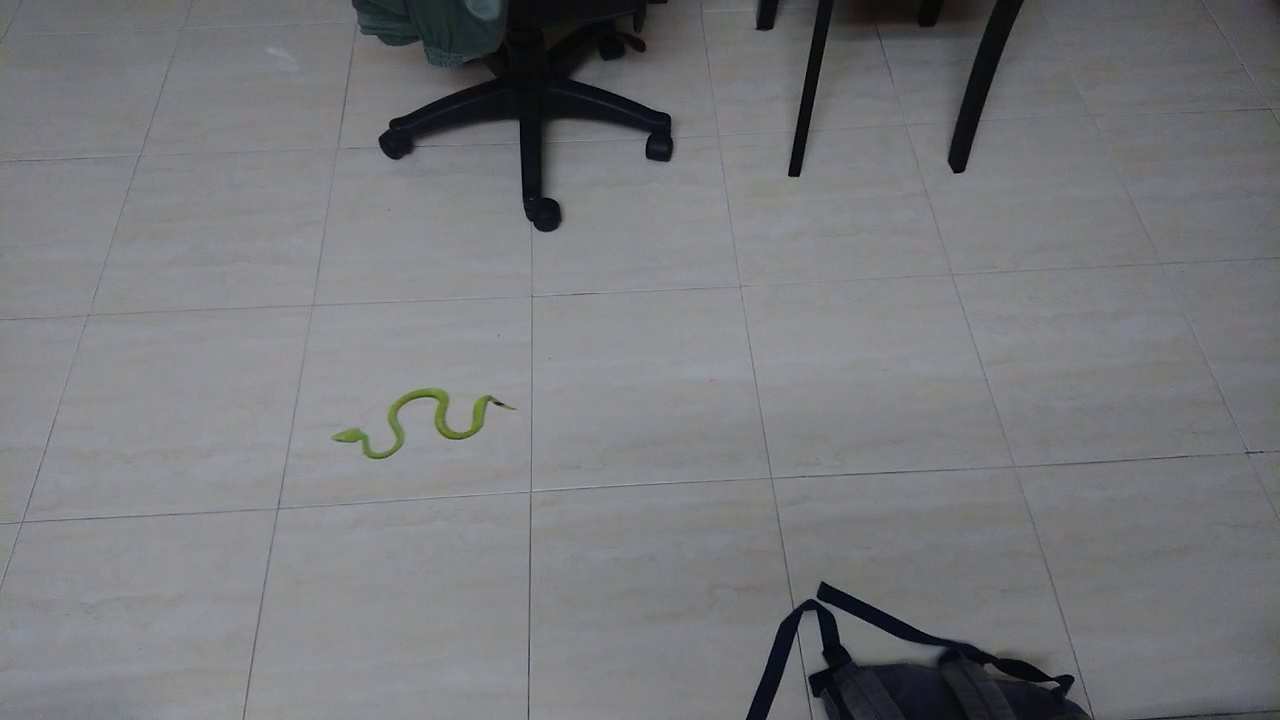snake: (317, 375, 527, 472)
